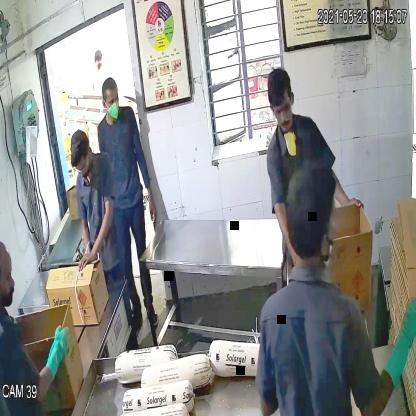no_goggles: (101, 95, 120, 110)
